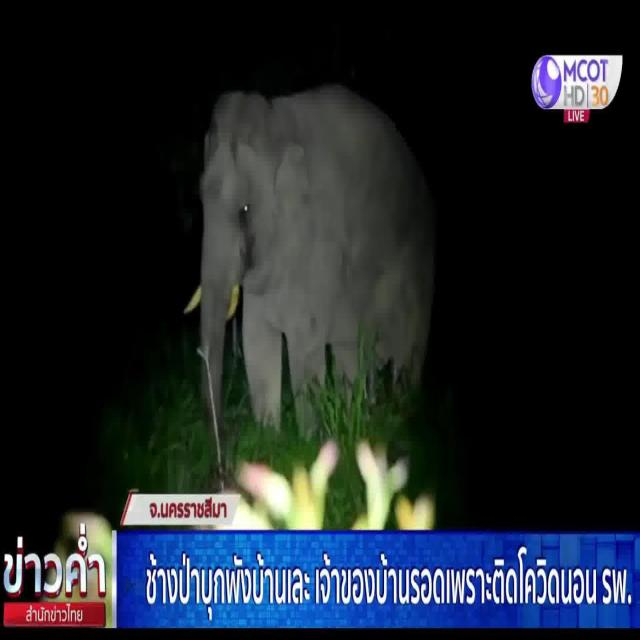Elephant: (185, 77, 441, 397)
